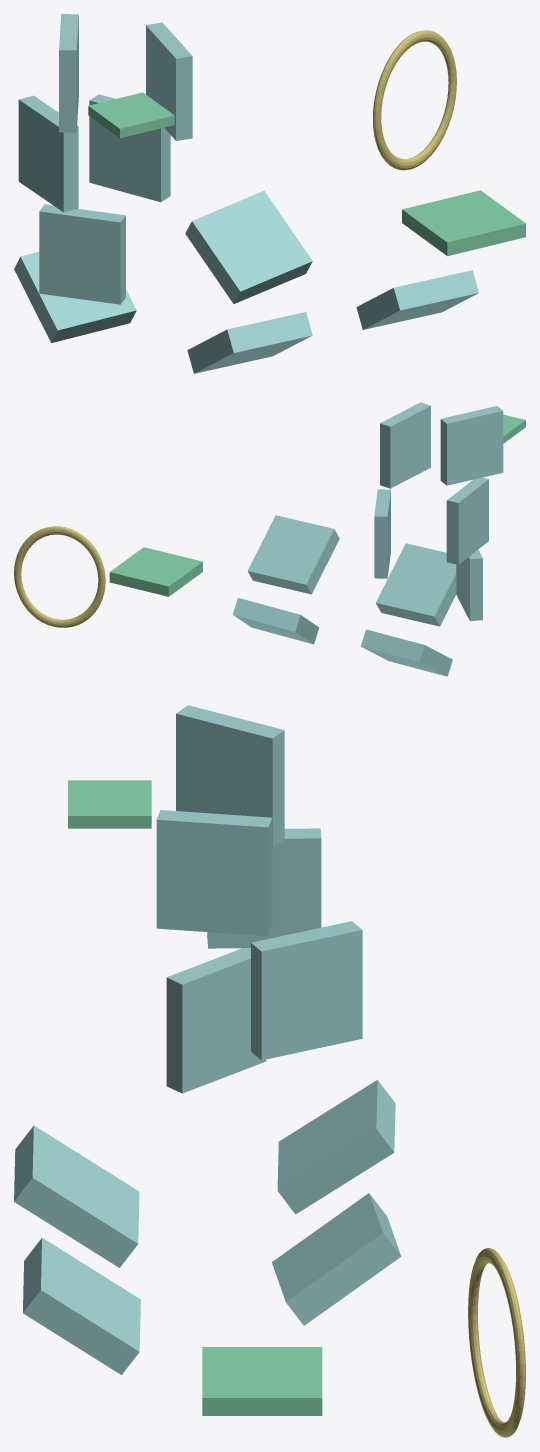
Rendered from scene_jump5.dae.
The picture shows the model from 3 angles, top to bottom: view 1: azimuth 30°, elevation 25°; view 2: azimuth 150°, elevation 25°; view 3: azimuth 270°, elevation 25°; orthographic projection. The views are drawn at different scales.
Parts seen in each view (by area): view 1: Cube_002, Cube_005, Cube_006, Cube_004, Cube_003, Cube_008, Cube_001, Cube_007, Cube, Torus, Cube_010, Cube_009; view 2: Cube, Cube_001, Cube_009, Cube_007, Cube_006, Cube_003, Torus, Cube_008, Cube_002, Cube_005, Cube_004, Cube_010; view 3: Cube_007, Cube_004, Cube_009, Cube_001, Cube_005, Cube, Cube_008, Cube_002, Cube_003, Cube_006, Torus, Cube_010.
Boxes of the visible parts, <box> form: Cube_002: <box>185,191,312,303</box>; Cube_005: <box>39,204,125,304</box>; Cube_006: <box>18,95,78,212</box>; Cube_004: <box>89,94,170,202</box>; Cube_003: <box>402,190,525,256</box>; Cube_008: <box>14,252,136,342</box>; Cube_001: <box>187,312,312,373</box>; Cube_007: <box>146,22,192,140</box>; Cube: <box>356,270,478,329</box>; Torus: <box>373,30,456,170</box>; Cube_010: <box>88,92,174,138</box>; Cube_009: <box>59,14,78,132</box>; Cube: <box>247,515,339,594</box>; Cube_001: <box>376,543,456,626</box>; Cube_009: <box>440,406,503,485</box>; Cube_007: <box>380,402,430,488</box>; Cube_006: <box>446,477,488,564</box>; Cube_003: <box>109,547,202,596</box>; Torus: <box>14,526,105,627</box>; Cube_008: <box>360,629,452,676</box>; Cube_002: <box>232,598,319,644</box>; Cube_005: <box>456,549,482,621</box>; Cube_004: <box>374,489,390,578</box>; Cube_010: <box>503,414,525,443</box>; Cube_007: <box>156,810,272,936</box>; Cube_004: <box>251,921,362,1060</box>; Cube_009: <box>176,705,284,847</box>; Cube_001: <box>14,1125,139,1267</box>; Cube_005: <box>166,948,266,1093</box>; Cube: <box>23,1237,140,1374</box>; Cube_008: <box>277,1080,395,1214</box>; Cube_002: <box>272,1193,401,1325</box>; Cube_003: <box>202,1347,322,1415</box>; Cube_006: <box>207,828,321,948</box>; Torus: <box>468,1248,525,1437</box>; Cube_010: <box>68,780,151,828</box>.
Bounding box in the file's own units: 13.33 × 8.52 × 8.13.
